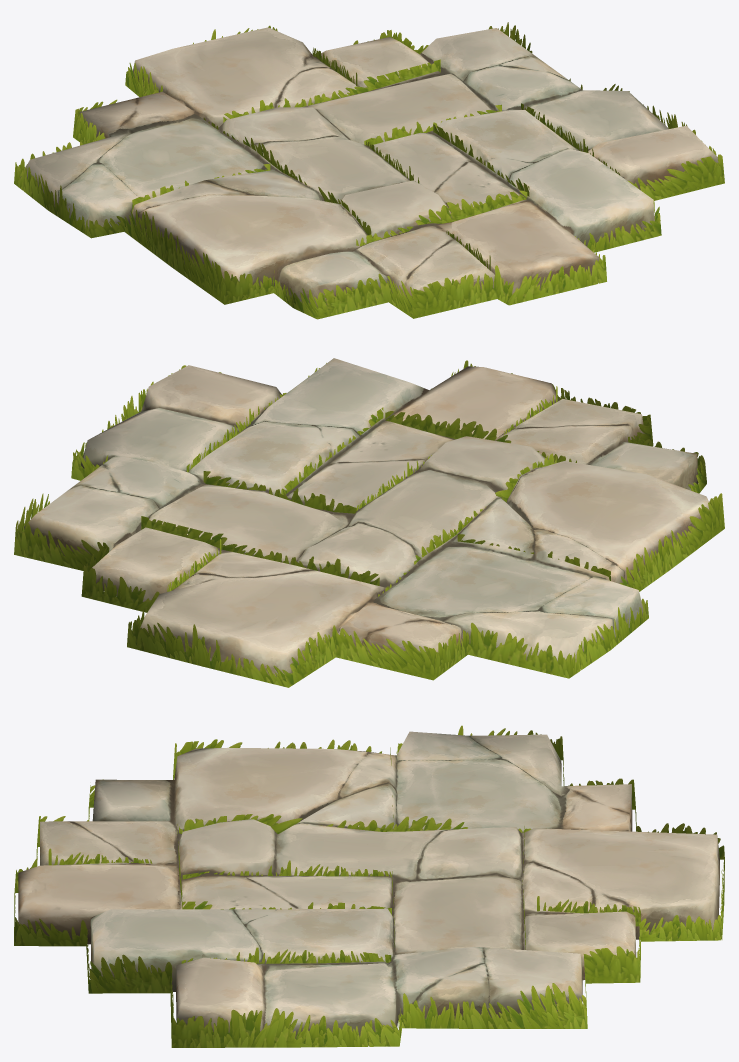
Rendered from mesh_StoneFloor.fbx.
3 views of the same model, one above another, from view 1: azimuth 30°, elevation 25°; view 2: azimuth 150°, elevation 25°; view 3: azimuth 270°, elevation 25° (orthographic). The views are drawn at different scales.
Parts seen in each view (by area): view 1: StoneFloor_LOD0, StoneFloor_GrassEdges_LOD0; view 2: StoneFloor_LOD0, StoneFloor_GrassEdges_LOD0; view 3: StoneFloor_LOD0, StoneFloor_GrassEdges_LOD0.
Boxes of the visible parts, x1,y1,x2,y2 form: StoneFloor_LOD0: (20, 27, 718, 307); StoneFloor_GrassEdges_LOD0: (14, 22, 724, 319); StoneFloor_LOD0: (24, 358, 709, 676); StoneFloor_GrassEdges_LOD0: (14, 360, 724, 687); StoneFloor_LOD0: (18, 731, 719, 1038); StoneFloor_GrassEdges_LOD0: (14, 725, 724, 1047).
Size of what is drawn, in the model's own units: 7.67 by 0.6565 by 7.98.
2 materials, 2 textured.
